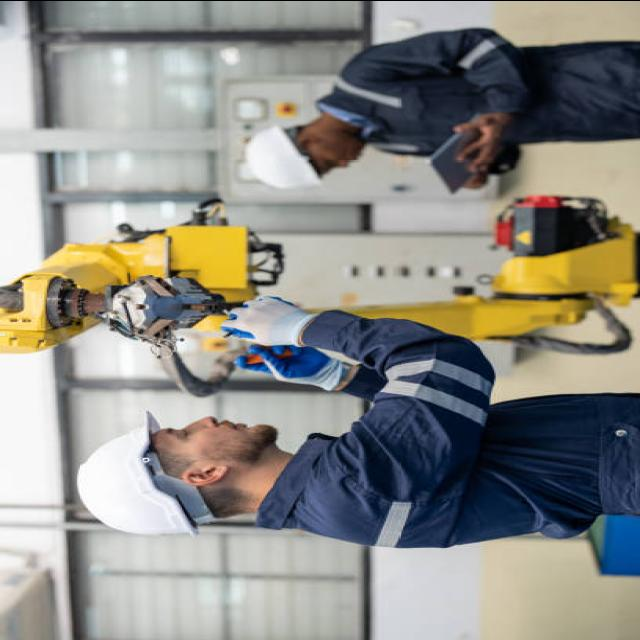Robotic-arm: (0, 194, 640, 386)
